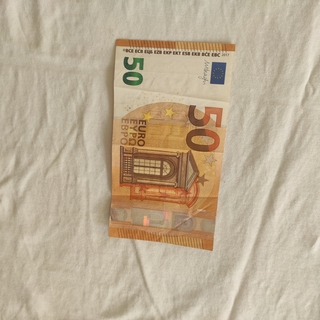50EUROFront: (106, 38, 236, 252)
